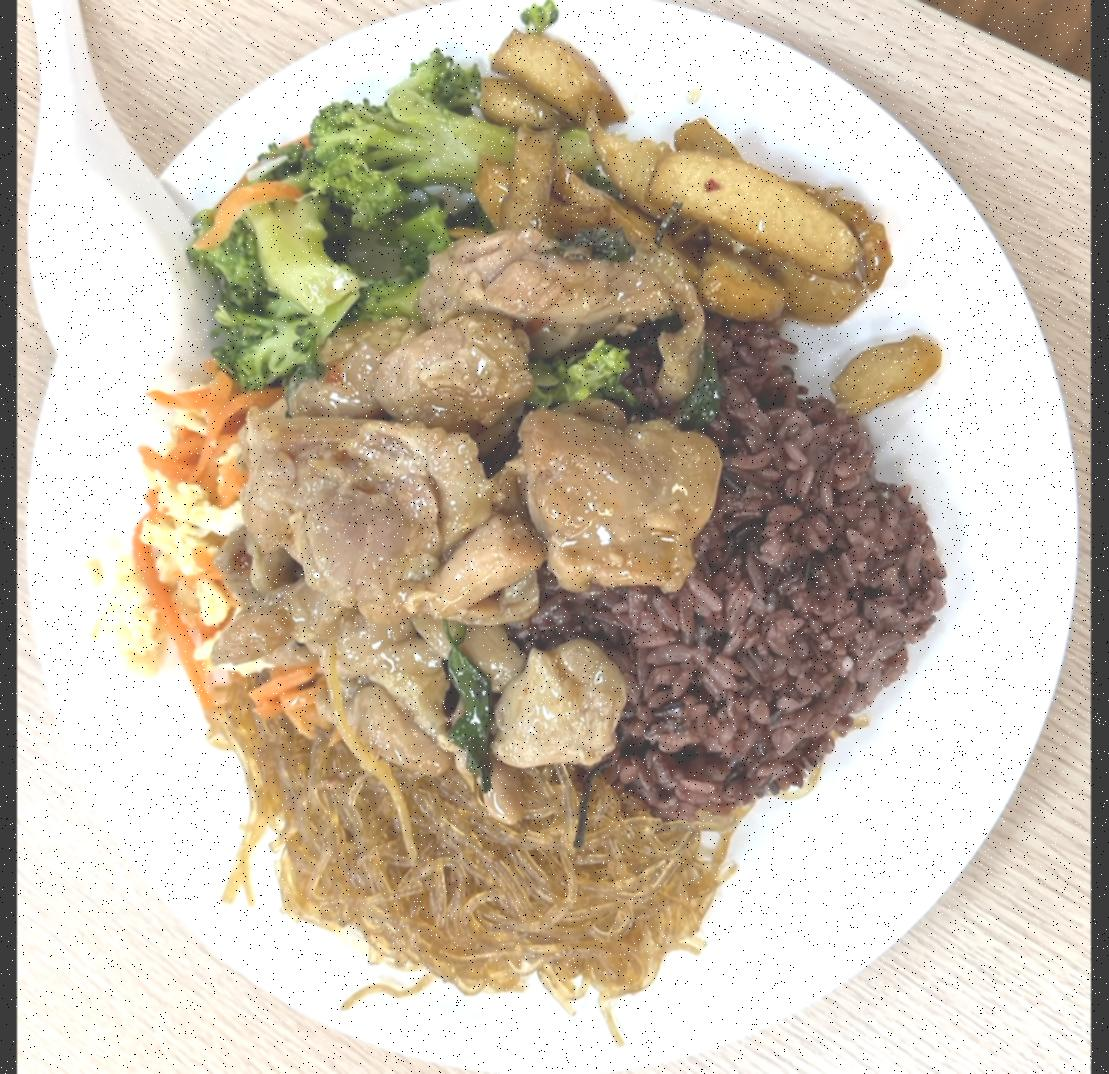big fried chicken leg: (23, 0, 1091, 1071)
braised fish: (556, 311, 929, 821)
braised fish fillet: (208, 701, 735, 1003), (466, 31, 894, 325), (181, 77, 516, 382), (96, 359, 254, 706)
braised pork: (210, 219, 722, 791)
